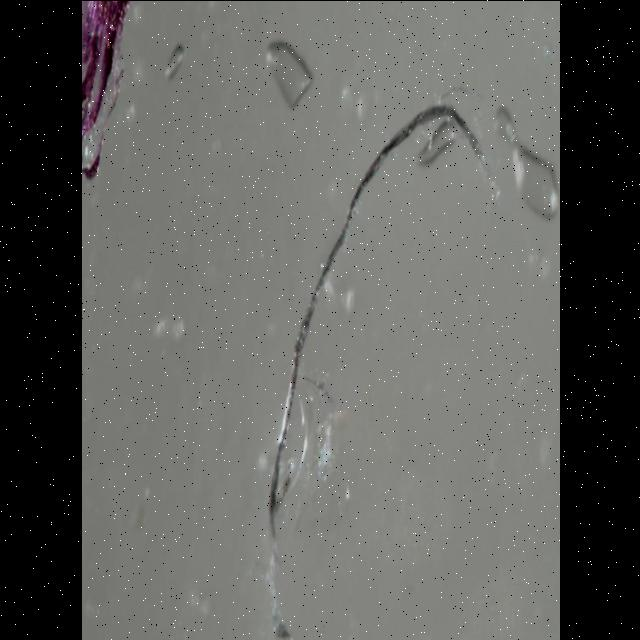Fibre: (264, 90, 558, 640)
